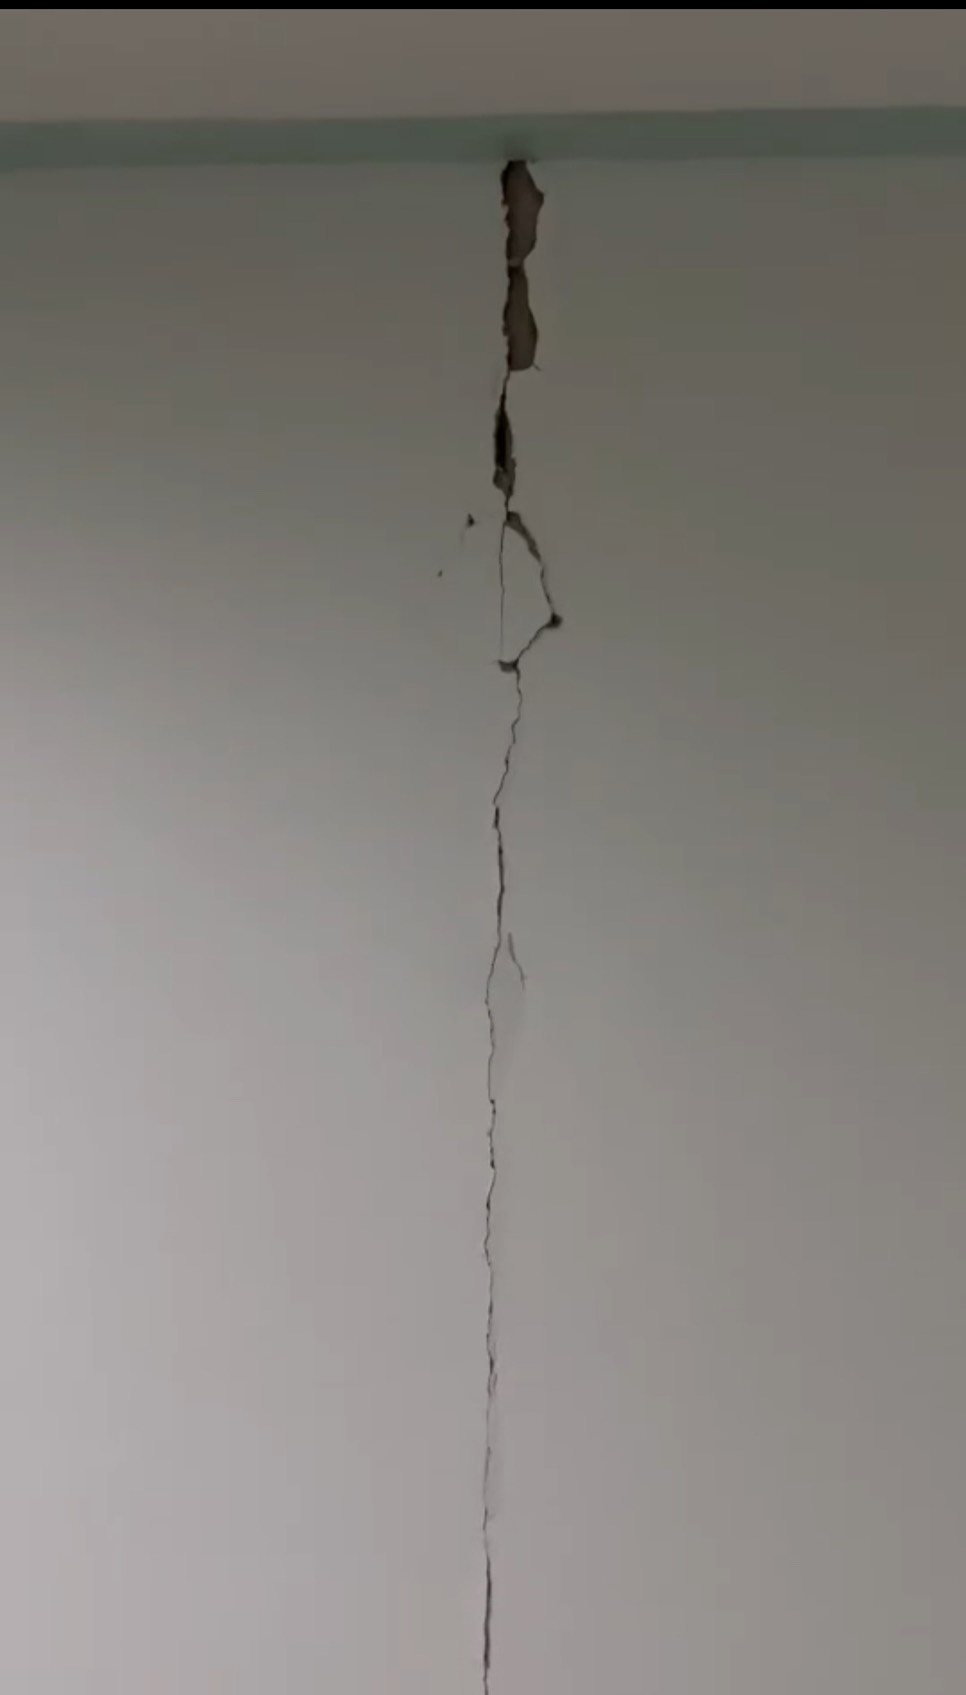Medium: (364, 158, 630, 1253)
